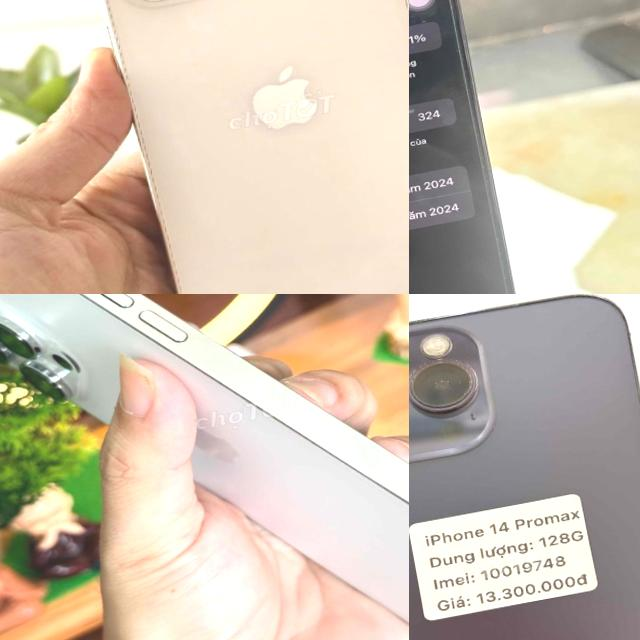gen_12_13: (76, 0, 409, 294)
gen_14: (0, 294, 409, 640), (409, 294, 640, 640)
gen_16: (409, 0, 561, 294)
scratch: (409, 345, 492, 430)
